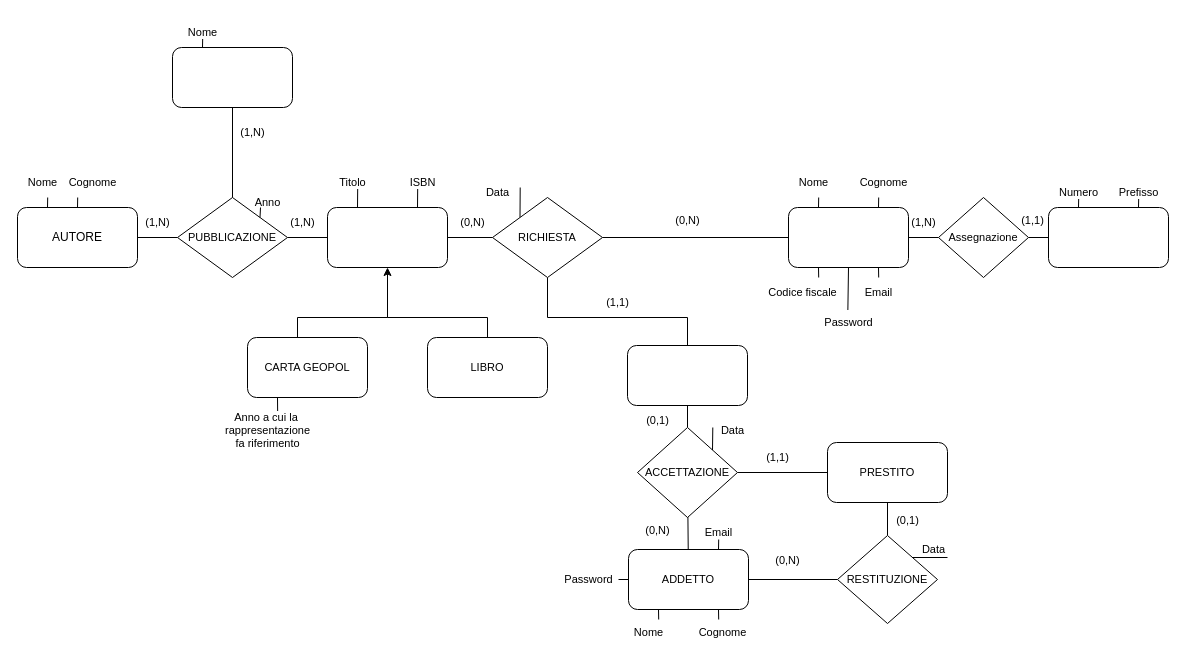
Some shapes in this 1186 by 664 pixel diagram are drawn without their labels. The shapes that lost their labels are listed below. From the top down, each one's centre as x and y in pixels, then its label:
At point (232, 77): "CASA EDITRICE".
At point (387, 237): "PRODOTTO".
At point (848, 237): "CLIENTE".
At point (1108, 237): "TELEFONO".
At point (687, 375): "PRENOTAZIONE".
